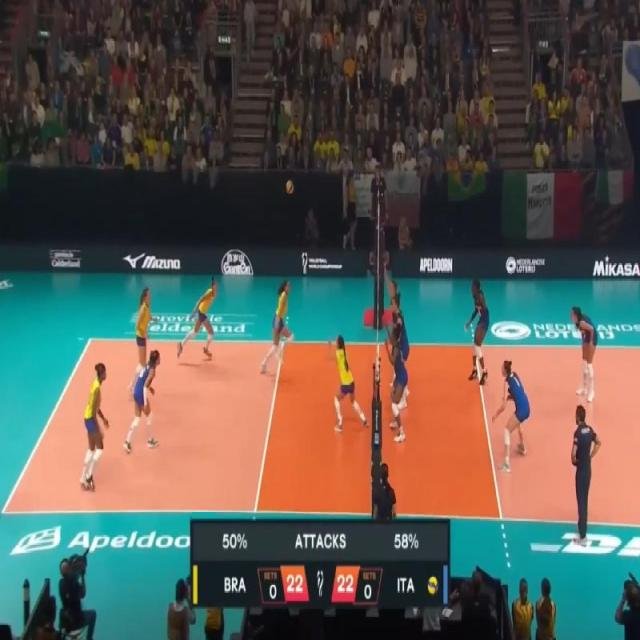volleyball: (285, 180, 294, 195)
